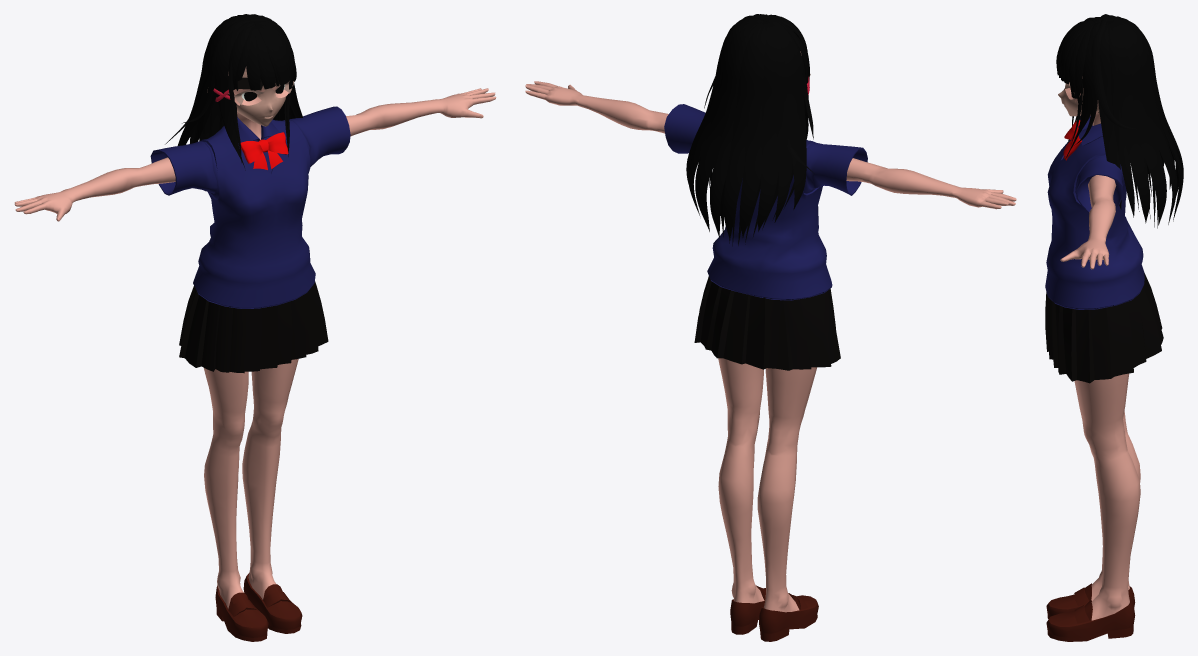
Rendered from Girl_Model_Player_Kid.fbx.
3 views of the same model, side by side, from view 1: azimuth 30°, elevation 25°; view 2: azimuth 150°, elevation 25°; view 3: azimuth 270°, elevation 25° (orthographic).
Parts seen in each view (by area): view 1: Body.baked, Hair001.baked, Face.baked; view 2: Body.baked, Hair001.baked; view 3: Body.baked, Hair001.baked, Face.baked.
Part boxes in pixels (x1,y1,x2,y2): Body.baked: (14, 66, 496, 641); Hair001.baked: (165, 14, 302, 191); Face.baked: (207, 71, 294, 126); Body.baked: (525, 51, 1016, 641); Hair001.baked: (686, 14, 814, 246); Body.baked: (1045, 76, 1163, 641); Hair001.baked: (1056, 14, 1183, 228); Face.baked: (1058, 82, 1099, 116).
Size of the model in its own units: 138 by 165 by 34.04.
